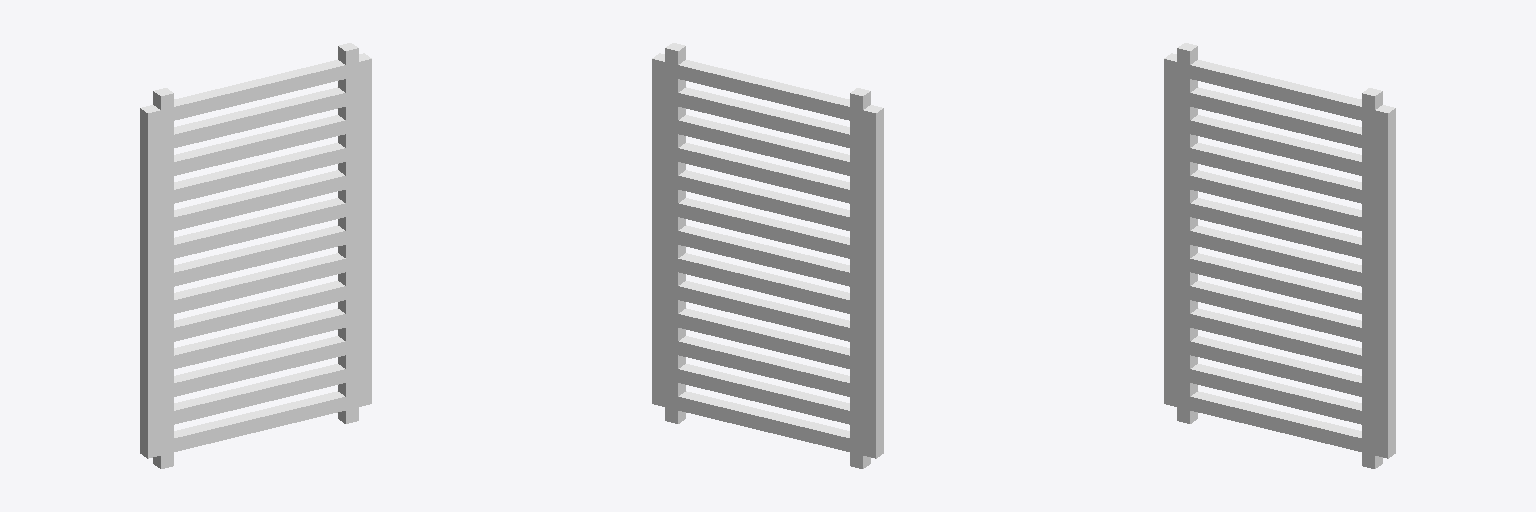
Rendered from Radiateur_2.obj.
3 views of the same model, side by side, from view 1: azimuth 30°, elevation 25°; view 2: azimuth 150°, elevation 25°; view 3: azimuth 330°, elevation 25° (orthographic).
Parts seen in each view (by area): view 1: object 1; view 2: object 1; view 3: object 1.
Part boxes in pixels (x1,y1,x2,y2): object 1: (140, 43, 371, 468); object 1: (652, 43, 883, 468); object 1: (1164, 43, 1395, 468).
Size of the model in its own units: 1.7 by 2.7 by 0.1.